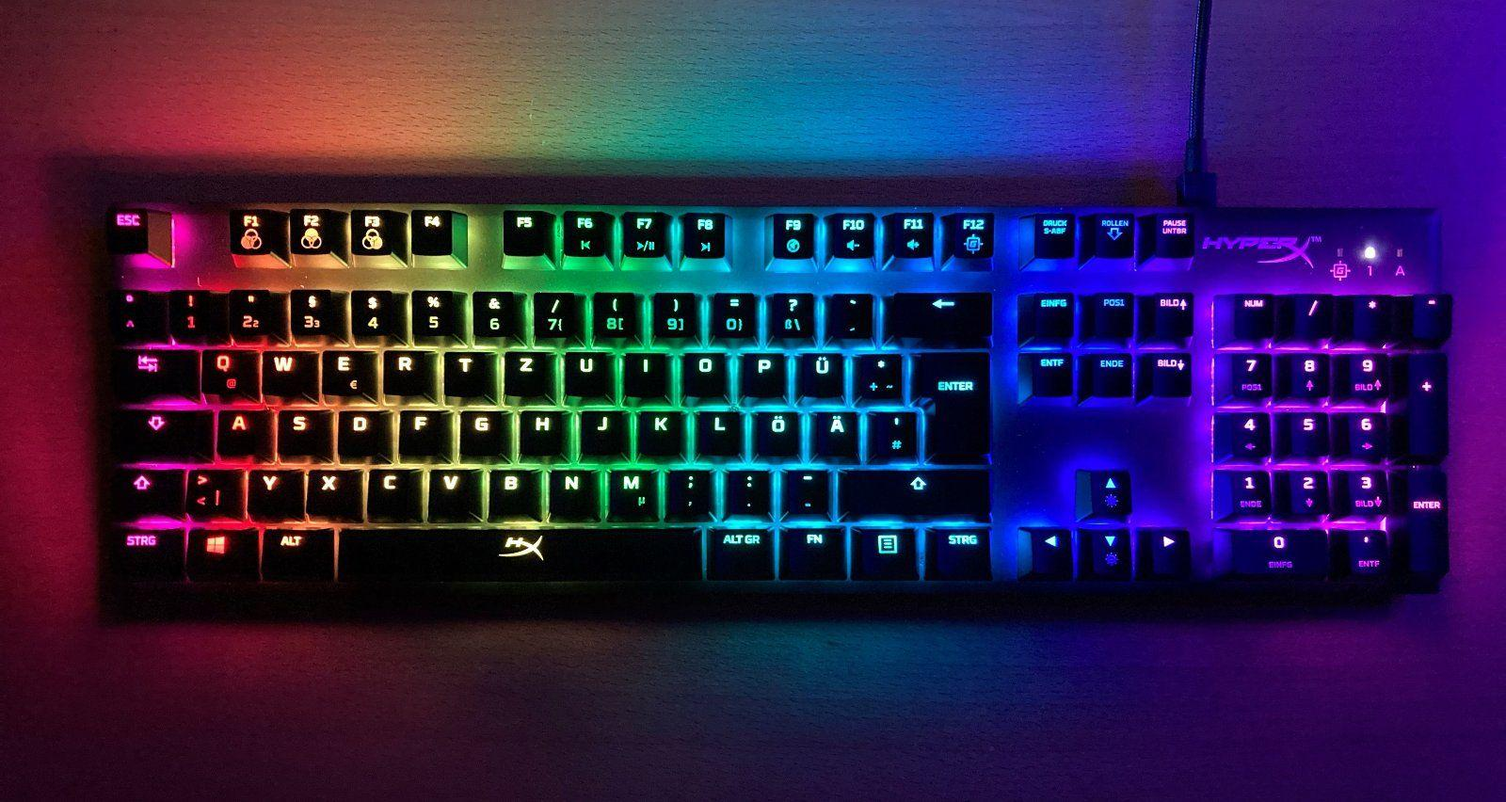0: (708, 287, 757, 339)
1: (165, 283, 218, 338)
2: (225, 283, 280, 340)
3: (286, 283, 339, 339)
4: (348, 284, 396, 337)
5: (408, 283, 462, 339)
6: (470, 285, 520, 338)
7: (530, 286, 576, 339)
8: (588, 286, 638, 342)
9: (649, 287, 698, 340)
a: (214, 404, 268, 456)
accent: (824, 289, 872, 339)
ae: (811, 407, 857, 457)
alt-left: (257, 521, 333, 578)
altgr-right: (704, 522, 774, 577)
b: (485, 463, 538, 517)
c: (364, 462, 422, 518)
caret: (109, 287, 153, 339)
comma: (665, 463, 712, 517)
d: (334, 405, 387, 457)
del: (884, 288, 989, 338)
e: (317, 345, 374, 395)
enter: (912, 345, 987, 458)
f: (396, 405, 448, 455)
g: (457, 405, 507, 455)
h: (518, 404, 565, 454)
hash: (868, 406, 916, 458)
i: (621, 347, 667, 395)
j: (578, 404, 624, 455)
k: (635, 405, 684, 455)
keyboard: (83, 178, 1474, 618)
l: (695, 406, 742, 455)
less: (183, 462, 241, 515)
m: (604, 463, 657, 519)
minus: (780, 463, 827, 514)
n: (545, 463, 597, 519)
o: (679, 347, 727, 396)
oe: (752, 407, 799, 455)
p: (738, 347, 785, 396)
plus: (852, 347, 902, 400)
point: (725, 463, 769, 512)
q: (197, 344, 255, 394)
r: (378, 345, 434, 395)
s: (273, 404, 329, 456)
shift-left: (106, 464, 182, 511)
shift-lock: (108, 405, 211, 455)
shift-right: (837, 466, 985, 517)
space: (332, 522, 702, 581)
ss: (765, 288, 815, 342)
strg-left: (103, 521, 176, 577)
strg-right: (926, 521, 991, 576)
t: (441, 346, 491, 394)
tab: (110, 344, 195, 393)
u: (561, 346, 609, 396)
ue: (794, 348, 843, 396)
v: (425, 462, 481, 519)
w: (259, 345, 310, 395)
x: (304, 464, 361, 517)
y: (244, 464, 301, 517)
z: (501, 345, 550, 394)
